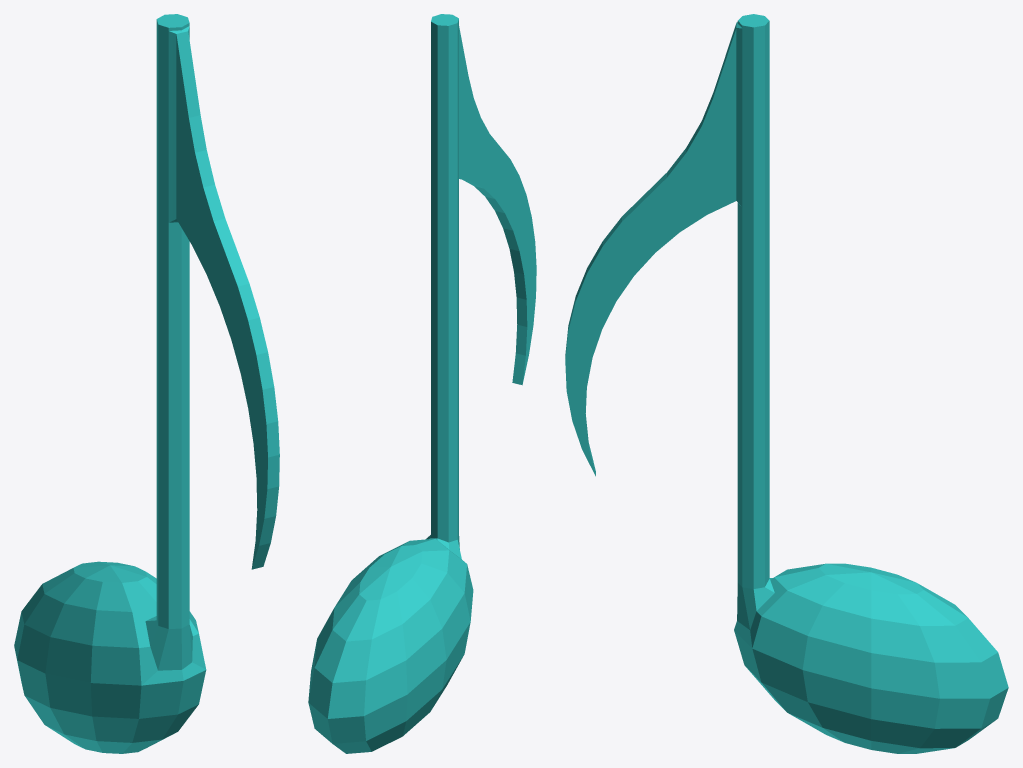
The model's file is music_5.obj.
The picture shows the model from 3 angles, left to right: view 1: azimuth 30°, elevation 25°; view 2: azimuth 150°, elevation 25°; view 3: azimuth 270°, elevation 25°; orthographic projection. The views are drawn at different scales.
Visible parts, largest first — view 1: Mesh_MusicNote; view 2: Mesh_MusicNote; view 3: Mesh_MusicNote.
Boxes of the visible parts, x1,y1,x2,y2 form: Mesh_MusicNote: (14,14,279,753); Mesh_MusicNote: (308,14,536,753); Mesh_MusicNote: (565,14,1008,753).
Bounding box in the file's own units: 2.2 × 12.65 × 6.97.
